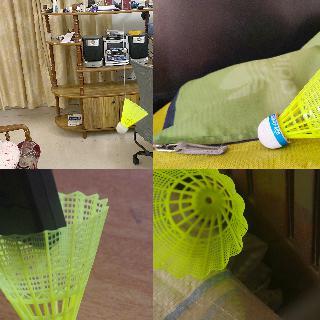shuttlecock: (0, 193, 110, 319), (153, 169, 247, 279), (255, 59, 319, 148), (116, 97, 148, 133)
